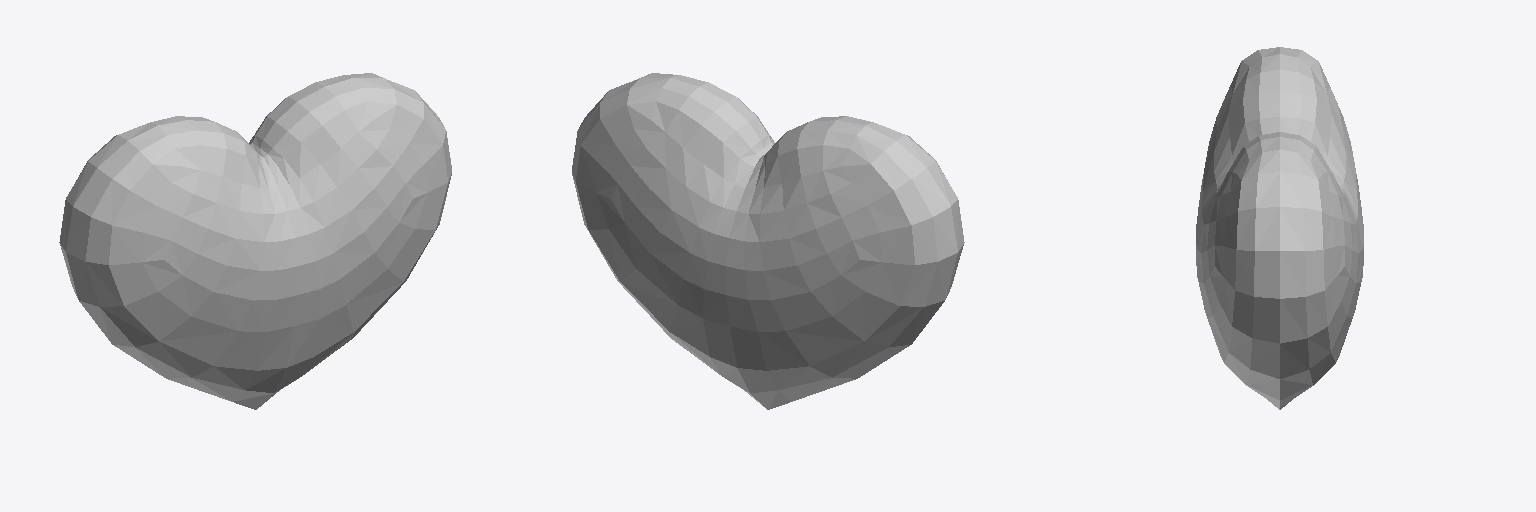
File: heart.obj
The picture shows the model from 3 angles: view 1: azimuth 30°, elevation 25°; view 2: azimuth 150°, elevation 25°; view 3: azimuth 270°, elevation 25°; orthographic projection.
Visible parts, largest first — view 1: Heart_Shape; view 2: Heart_Shape; view 3: Heart_Shape.
Part boxes in pixels (x1,y1,x2,y2): Heart_Shape: (59, 73, 451, 409); Heart_Shape: (572, 73, 964, 409); Heart_Shape: (1196, 47, 1363, 409).
Size of the model in its own units: 1.97 by 1.53 by 0.755.